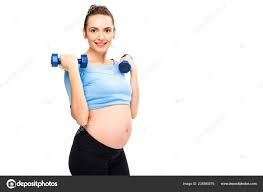no-mask: (76, 5, 120, 53)
